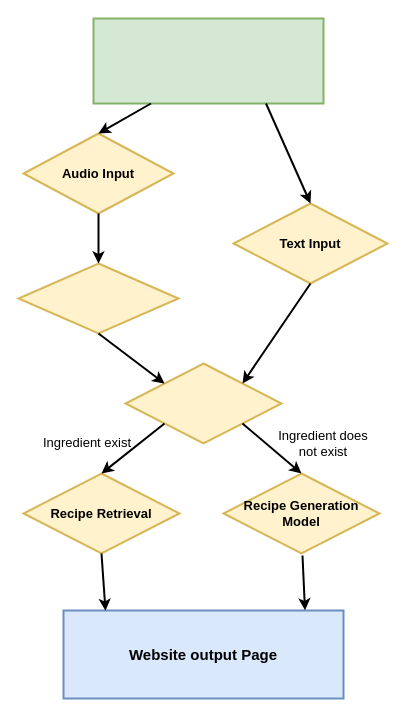
The diagram is 405 pixels wide and 716 high, and some of its shapes have lost their labels. Each missing label, with the centre of its shape:
Confirm the text to be in English: point (203, 403)
Convert Audio to text: point (98, 298)
Website Input Page: point (208, 60)
